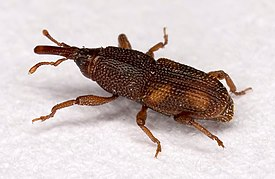dolgonosik: (27, 25, 260, 161)
